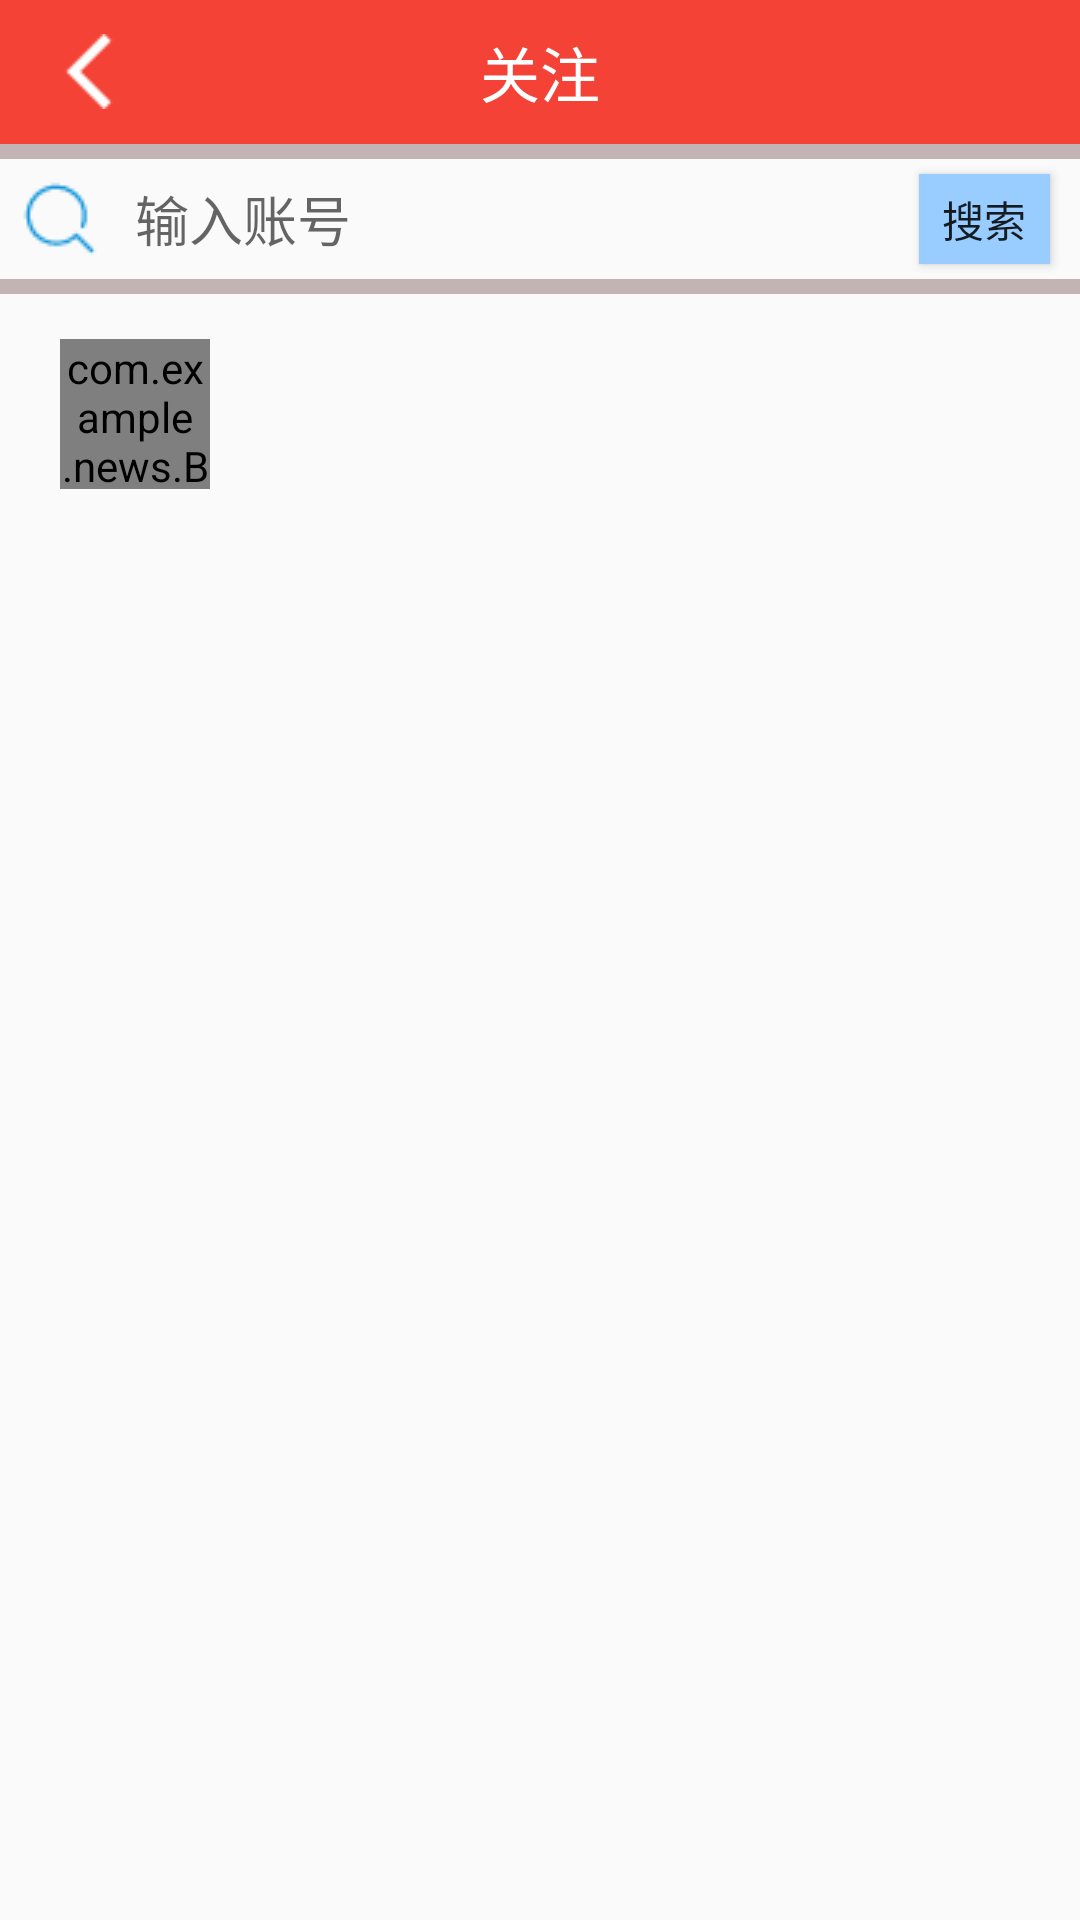

Where to tap for icons on this 1080w x 1920h app screen, as (x,y):
left: (88,71)
search: (59,218)
